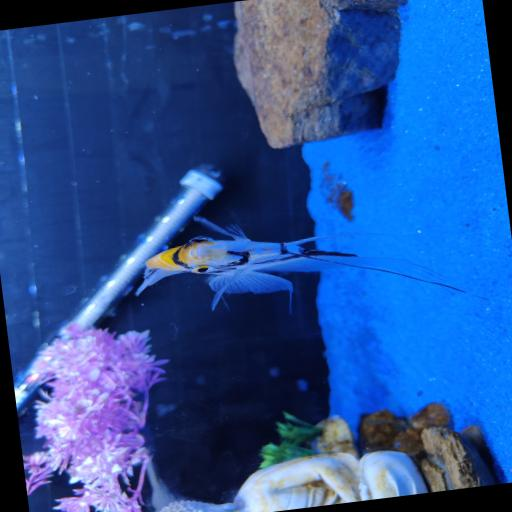Fish: (136, 217, 466, 309)
